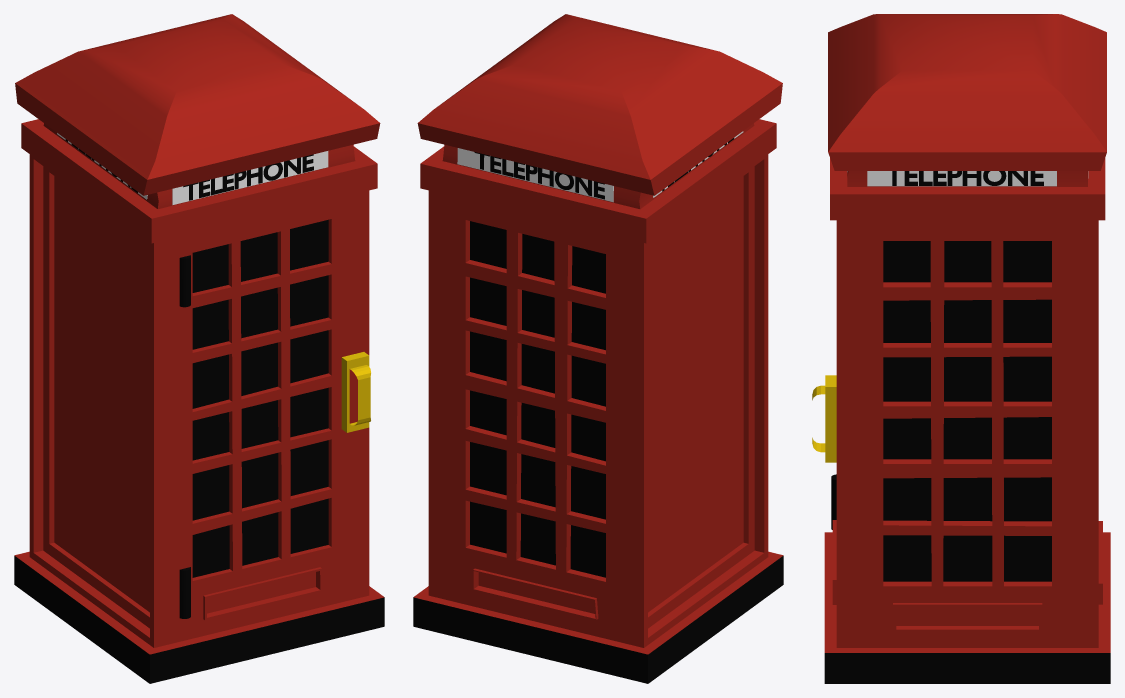
Rendered from telephone.glb.
3 views of the same model, side by side, from view 1: azimuth 30°, elevation 25°; view 2: azimuth 150°, elevation 25°; view 3: azimuth 270°, elevation 25° (orthographic). The views are drawn at different scales.
Visible parts, largest first — view 1: Plane_10, Plane.002_0, Plane.003_6, Text_1, Cylinder.001_5; view 2: Plane_10, Plane.005_8, Text.002_3; view 3: Plane_10, Plane.004_7, Text.001_2, Plane.002_0.
Part boxes in pixels (x1,y1,x2,y2): Plane_10: (14,14,384,683); Plane.002_0: (341,352,370,432); Plane.003_6: (172,151,328,204); Text_1: (183,154,313,200); Cylinder.001_5: (179,255,190,618); Plane_10: (413,14,783,683); Plane.005_8: (457,148,613,202); Text.002_3: (474,152,604,199); Plane_10: (824,14,1110,683); Plane.004_7: (867,171,1056,186); Text.001_2: (892,171,1043,185); Plane.002_0: (812,375,836,462).
Size of the model in its own units: 1.2 by 2.7 by 1.24.
